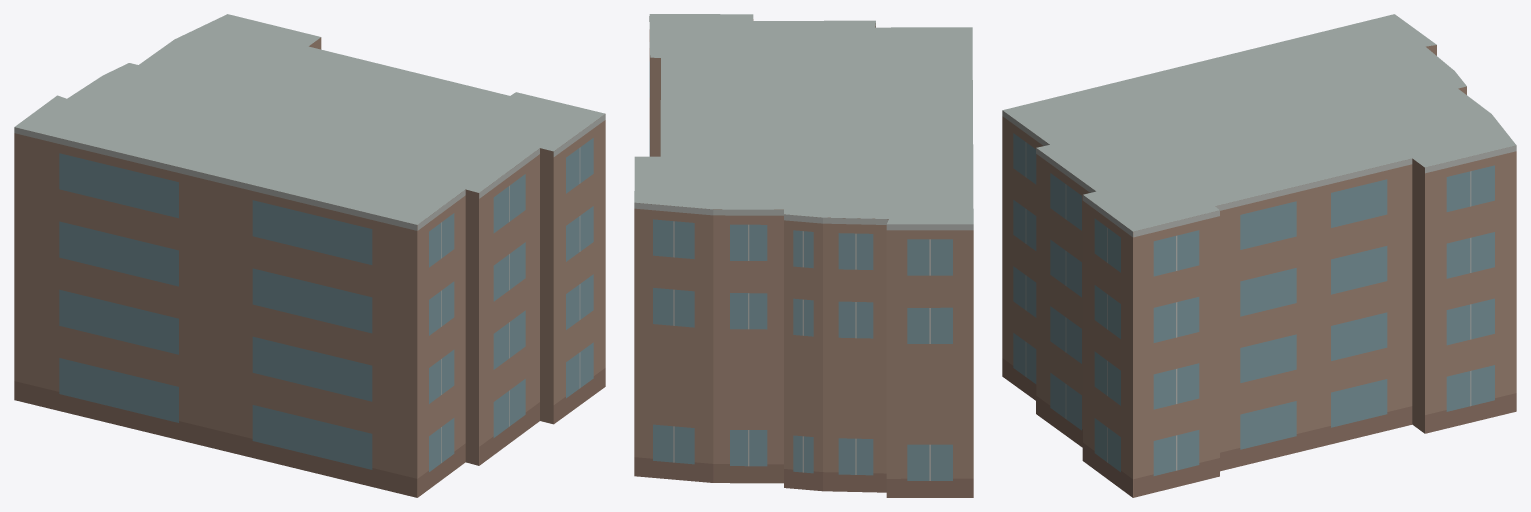
File: survey-upis-32905396.glb
3 renders of one model, left to right at view 1: azimuth 30°, elevation 25°; view 2: azimuth 150°, elevation 25°; view 3: azimuth 270°, elevation 25°, orthographic. The views are drawn at different scales.
Parts seen in each view (by area): view 1: survey-upis-32905396.tmp; view 2: survey-upis-32905396.tmp; view 3: survey-upis-32905396.tmp.
Part boxes in pixels (bbox=[...]): survey-upis-32905396.tmp: bbox=[14, 14, 605, 497]; survey-upis-32905396.tmp: bbox=[634, 14, 973, 497]; survey-upis-32905396.tmp: bbox=[1002, 14, 1516, 497].
Bounding box in the file's own units: 19.47 × 11.1 × 19.44.
